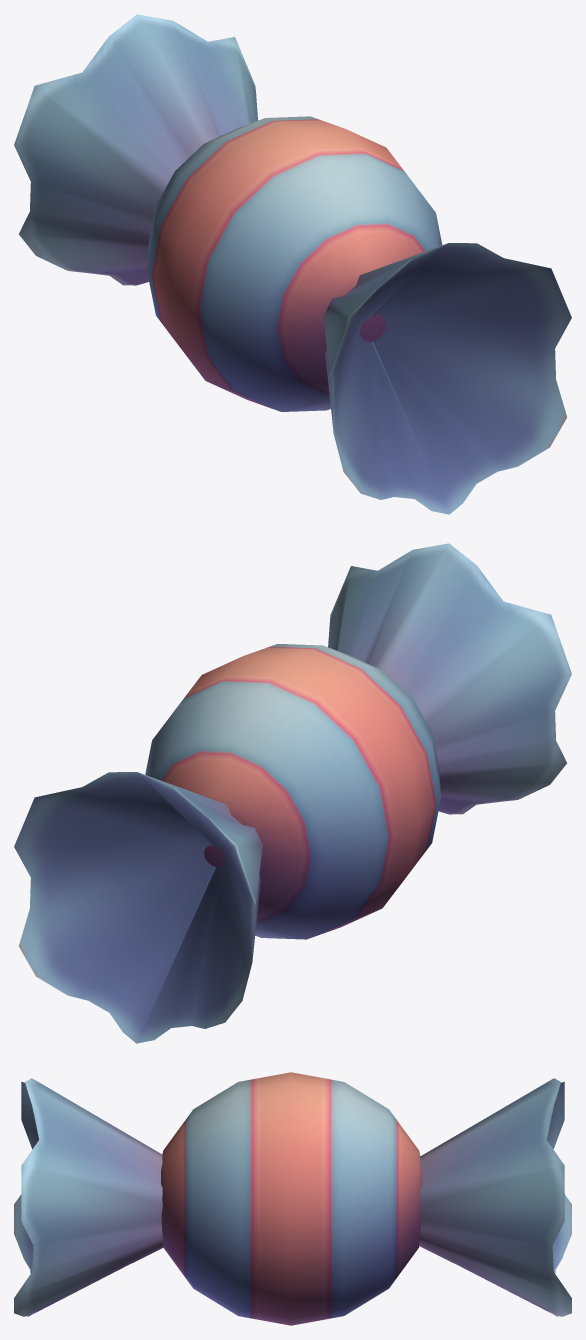
The model's file is scenes_around_candy01a.FBX.
The picture shows the model from 3 angles, top to bottom: view 1: azimuth 30°, elevation 25°; view 2: azimuth 150°, elevation 25°; view 3: azimuth 270°, elevation 25°; orthographic projection. The views are drawn at different scales.
Visible parts, largest first — view 1: scenes_around_candy01a; view 2: scenes_around_candy01a; view 3: scenes_around_candy01a.
Boxes of the visible parts, x1,y1,x2,y2 form: scenes_around_candy01a: (14,14,571,514); scenes_around_candy01a: (14,543,571,1043); scenes_around_candy01a: (14,1072,571,1325).
Size of the model in its own units: 2316 by 2349 by 5094.
